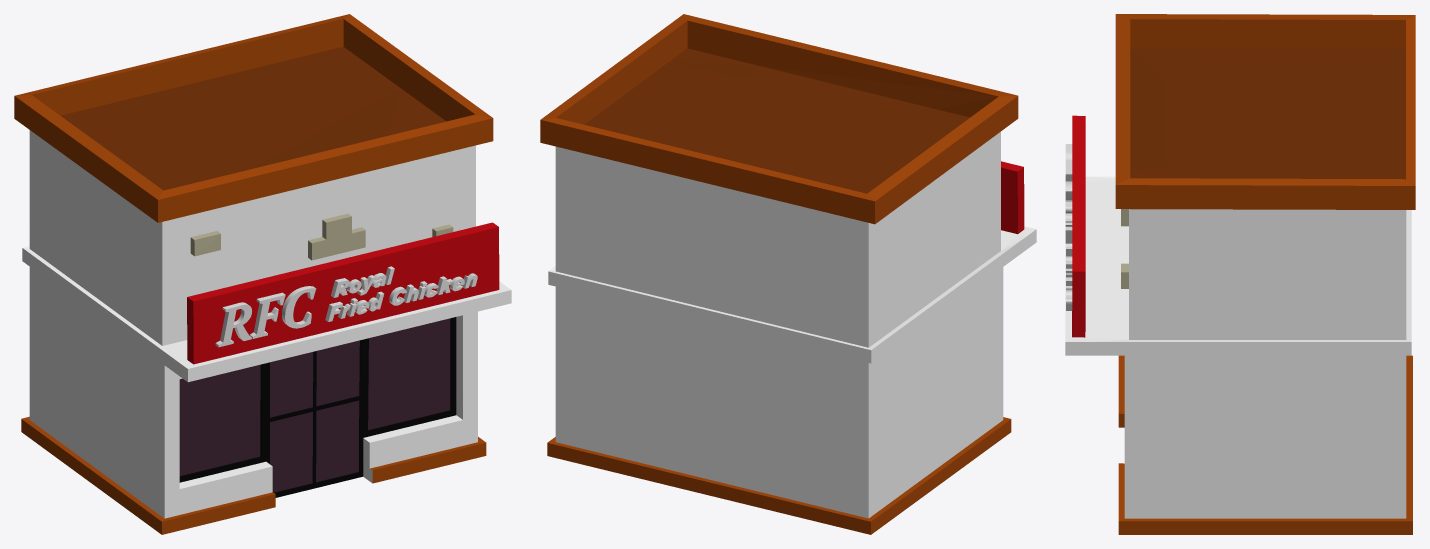
The model's file is FBX_RFC_Fast_Food.fbx.
3 renders of one model, left to right at view 1: azimuth 30°, elevation 25°; view 2: azimuth 150°, elevation 25°; view 3: azimuth 270°, elevation 25°, orthographic. The views are drawn at different scales.
Visible parts, largest first — view 1: Fast_Food, Text; view 2: Fast_Food; view 3: Fast_Food, Text.
Boxes of the visible parts, x1,y1,x2,y2 form: Fast_Food: (14,14,511,534); Text: (215,266,477,347); Fast_Food: (540,14,1036,534); Fast_Food: (1065,14,1415,534); Text: (1065,144,1072,310).
Size of the model in its own units: 7.7 by 7.43 by 6.66.
